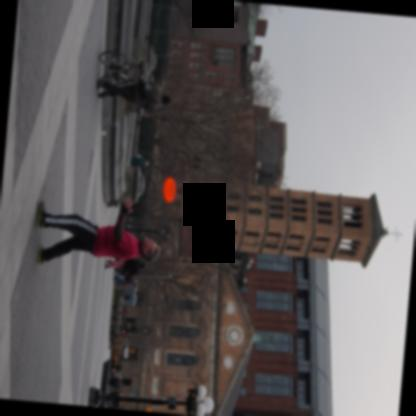backpack: (138, 81, 158, 105), (114, 381, 119, 386)
